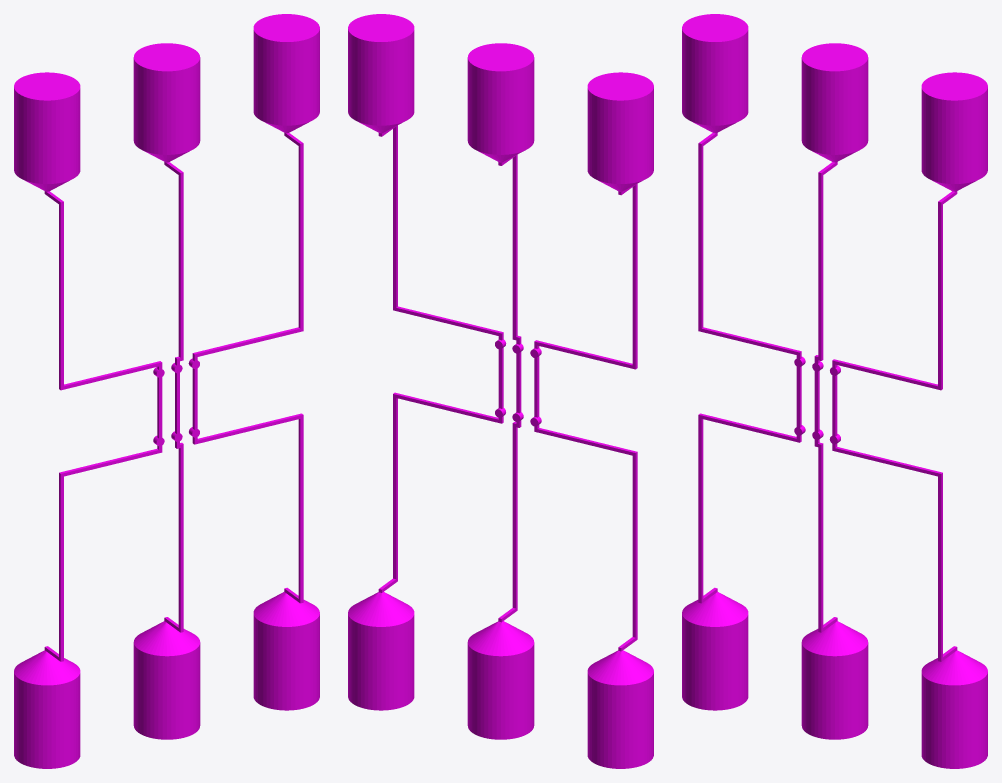
The model's file is void_control.glb.
3 views of the same model, side by side, from view 1: azimuth 30°, elevation 25°; view 2: azimuth 150°, elevation 25°; view 3: azimuth 330°, elevation 25° (orthographic).
Parts seen in each view (by area): view 1: world; view 2: world; view 3: world.
Part boxes in pixels (x1,y1,x2,y2): world: (14, 14, 319, 768); world: (348, 14, 653, 768); world: (682, 14, 987, 768).
Size of the model in its own units: 5.65 by 12.16 by 1.1.
